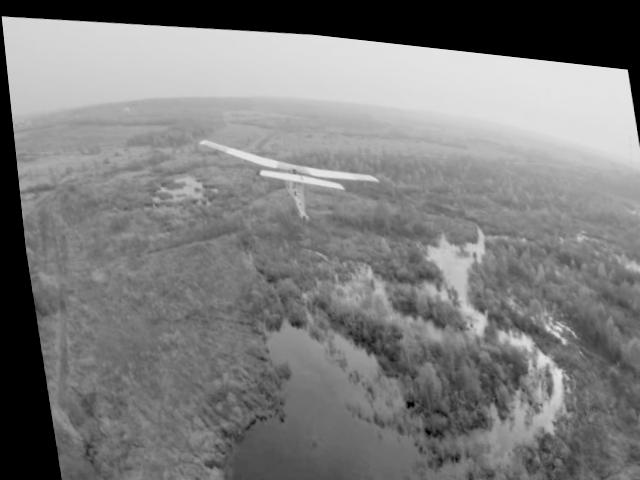hedef: (203, 118, 380, 234)
